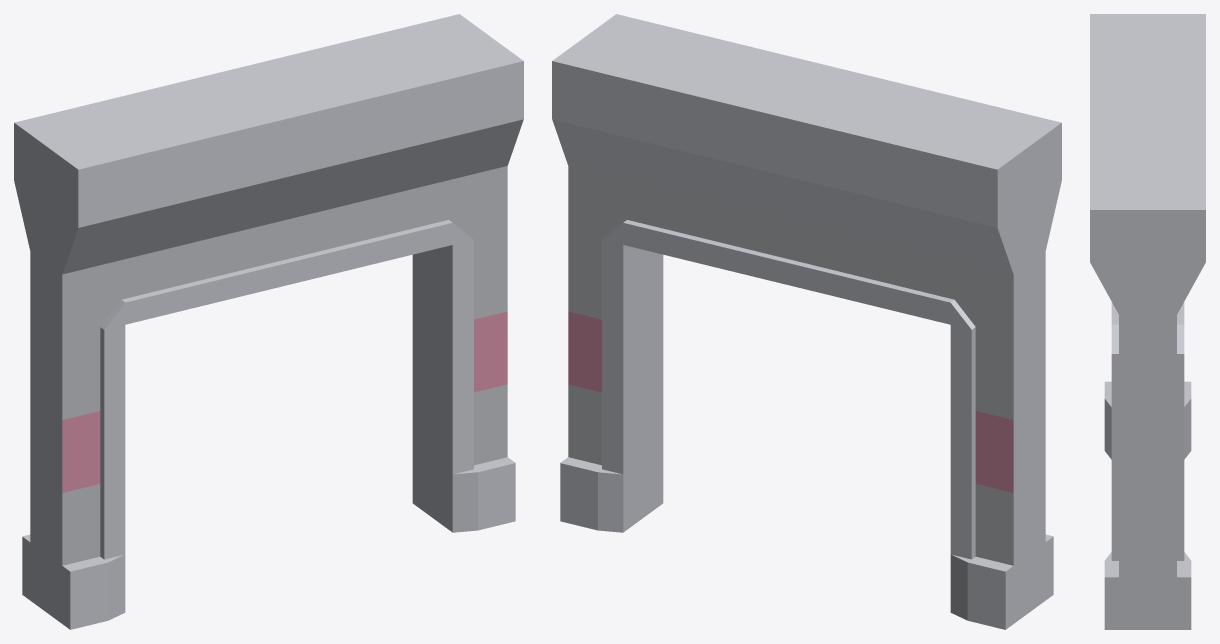
Rendered from object_11_full.glb.
3 renders of one model, left to right at view 1: azimuth 30°, elevation 25°; view 2: azimuth 150°, elevation 25°; view 3: azimuth 270°, elevation 25°, orthographic. The views are drawn at different scales.
Parts seen in each view (by area): view 1: object_011_full; view 2: object_011_full; view 3: object_011_full.
Boxes of the visible parts, x1,y1,x2,y2 form: object_011_full: [14, 14, 523, 629]; object_011_full: [552, 14, 1061, 629]; object_011_full: [1090, 14, 1205, 629].
Bounding box in the file's own units: 1 × 1 × 0.25.
